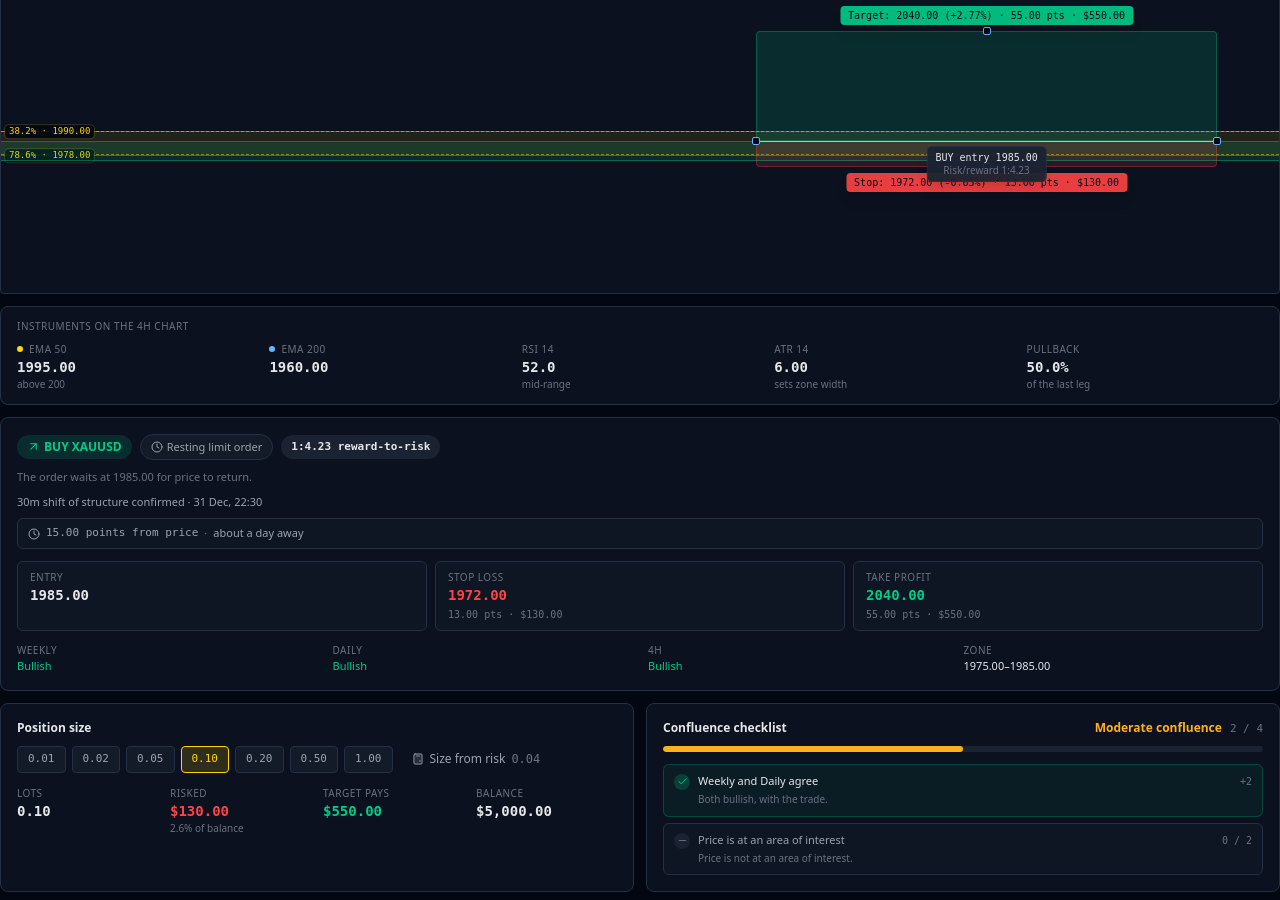
Test case: the checklist and the sizing › re-prices the trade when the lot size changes
(page scrolled)
Check: the text "BUY XAUUSD" is shown, box [17,435,132,459]
Check: the text "$130.00" is shown, box [170,803,229,819]
Click the button "0.50" at (314, 759), box [290,746,338,773]
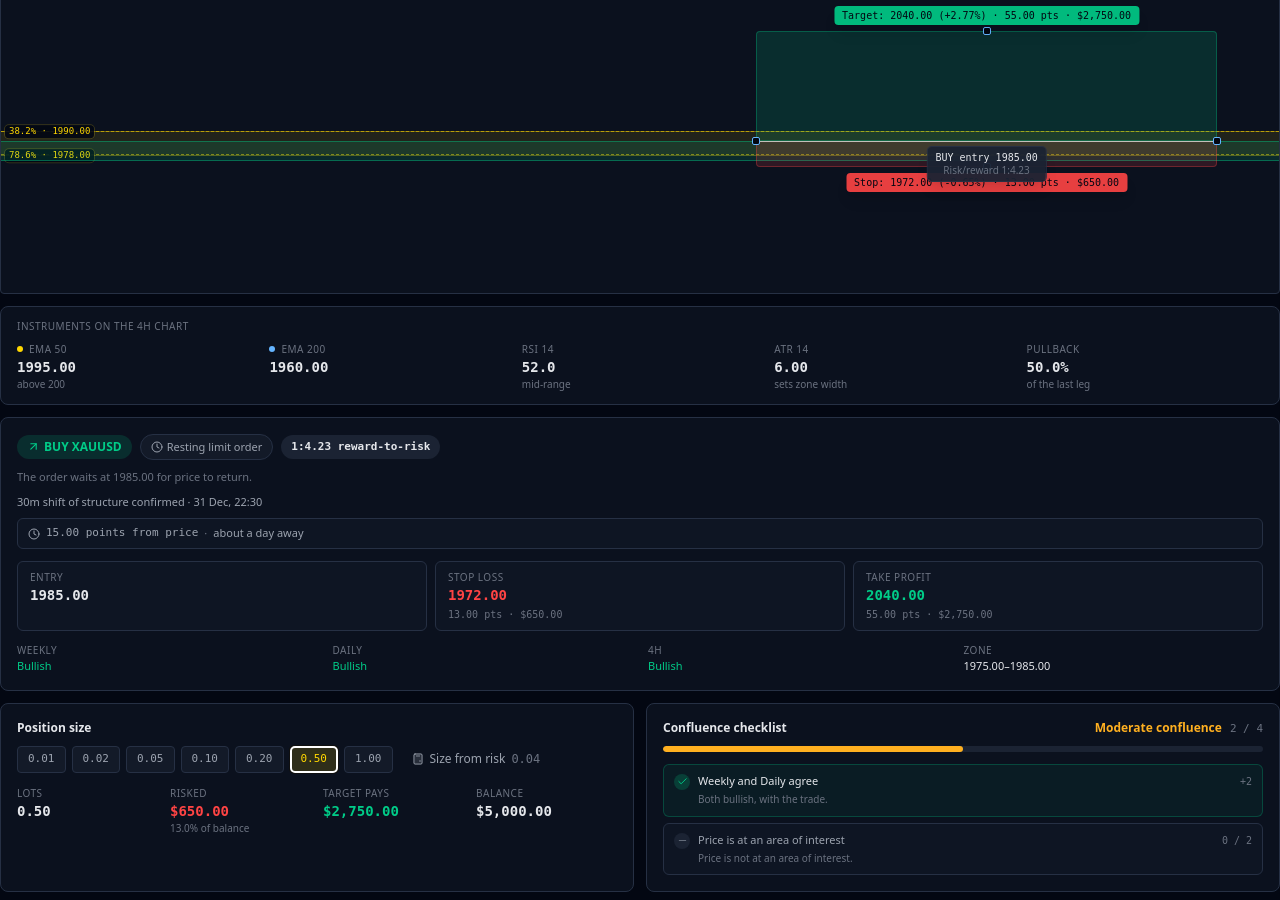
Check: the text "$650.00" is shown, box [170,803,229,819]
Check: the text "$2,750.00" is shown, box [323,803,399,819]
